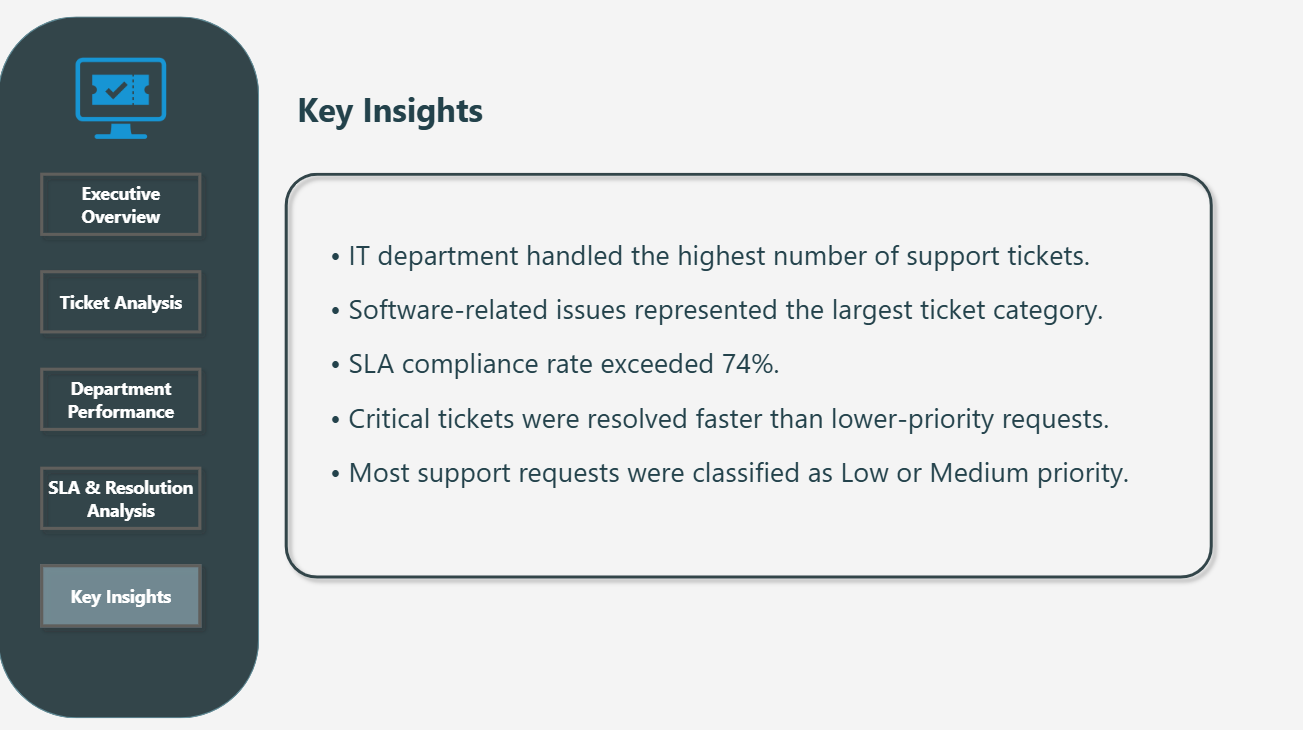

This screenshot's page, from the dashboard's own definition file:
{"tool":"powerbi","page":{"name":"Key Insights","canvas":[1280,720],"ordinal":4},"visuals":[{"type":"textbox","box":[320,208,816,304],"z":0},{"type":"shape","box":[0,16,256,688],"z":1000},{"type":"actionButton","box":[32,160,176,80],"z":2000},{"type":"actionButton","box":[32,256,176,80],"z":3000},{"type":"actionButton","box":[32,352,176,80],"z":4000},{"type":"actionButton","box":[32,448,176,80],"z":5000},{"type":"actionButton","box":[32,544,176,80],"z":6000},{"type":"image","box":[64,32,112,128],"z":7000},{"type":"textbox","box":[288,80,208,64],"z":8000},{"type":"shape","box":[272,160,928,416],"z":9000}]}

Visuals, with their boxes in screenshot pixels (x1, y1, x2, y2), scaled from the page's 1280x720 canvas onto the 1303x730 screenshot:
textbox: 326/211/1156/519
shape: 0/16/261/714
actionButton: 33/162/212/243
actionButton: 33/260/212/341
actionButton: 33/357/212/438
actionButton: 33/454/212/535
actionButton: 33/552/212/633
image: 65/32/179/162
textbox: 293/81/505/146
shape: 277/162/1222/584
